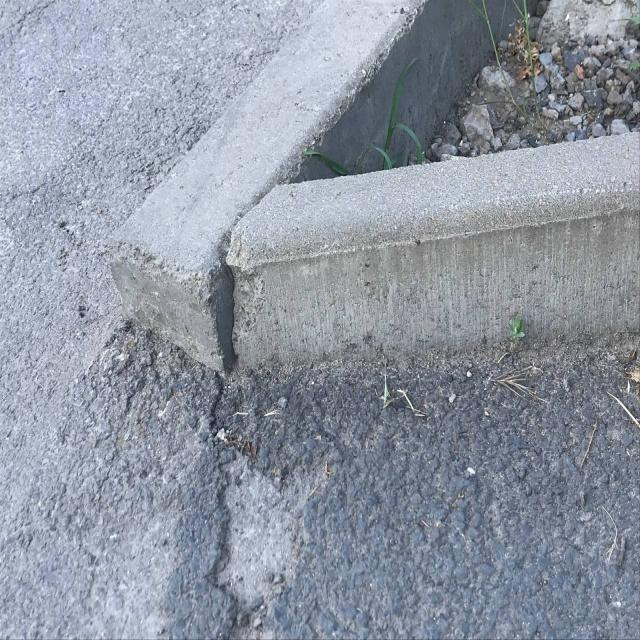bump: (226, 132, 639, 397)
